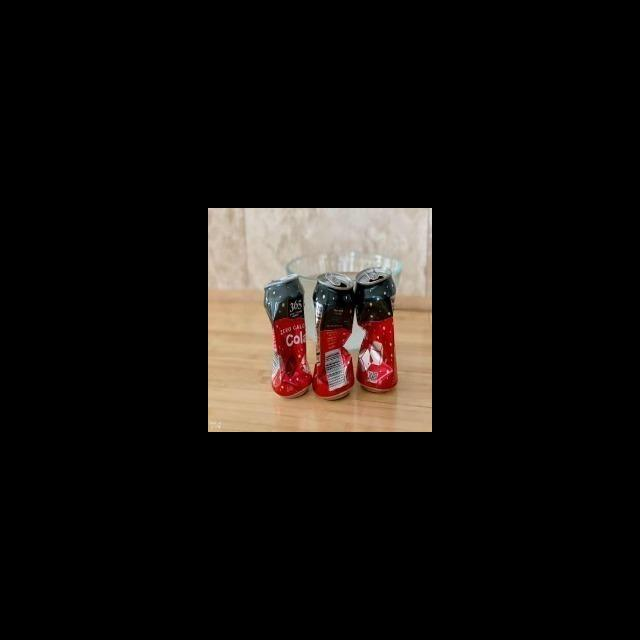metal: (262, 264, 311, 403), (311, 260, 356, 410), (354, 267, 400, 404)
